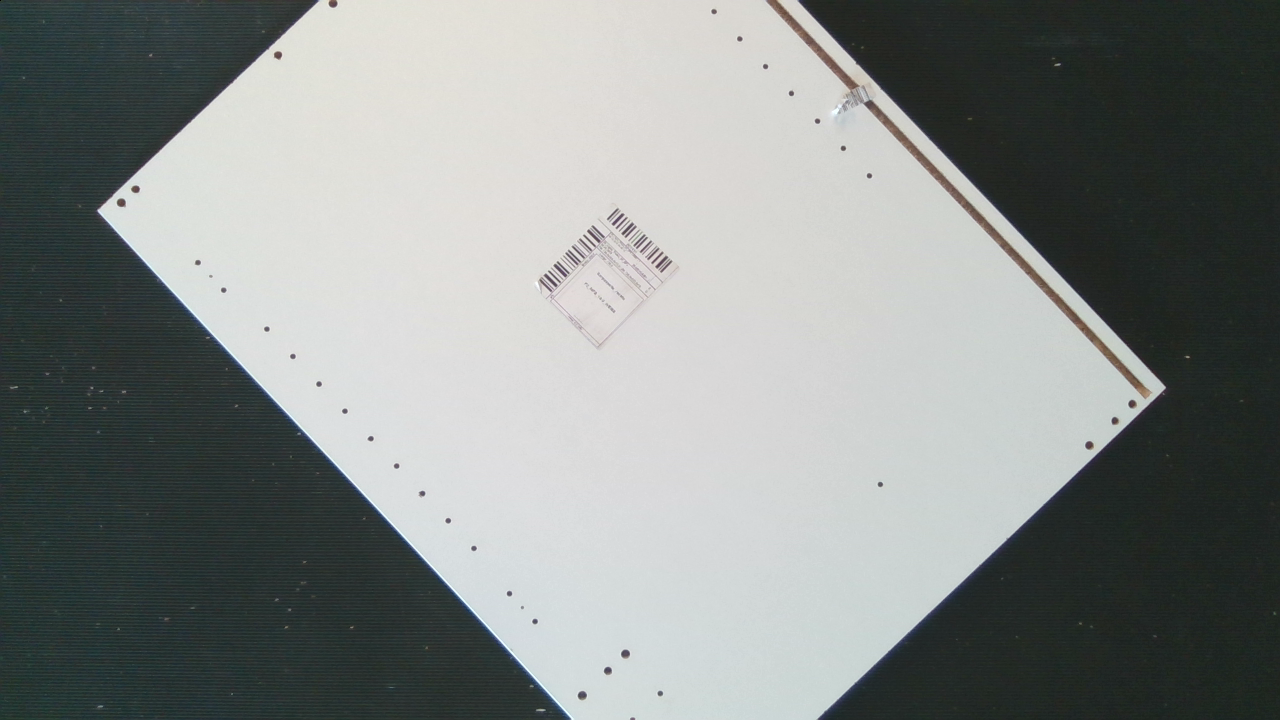barcode: (524, 195, 692, 360)
